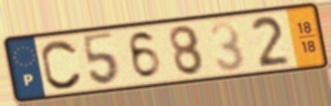2: (249, 14, 292, 70)
3: (209, 18, 247, 73)
5: (79, 30, 123, 88)
6: (126, 29, 164, 81)
8: (167, 23, 205, 78)
C: (39, 37, 85, 91)
